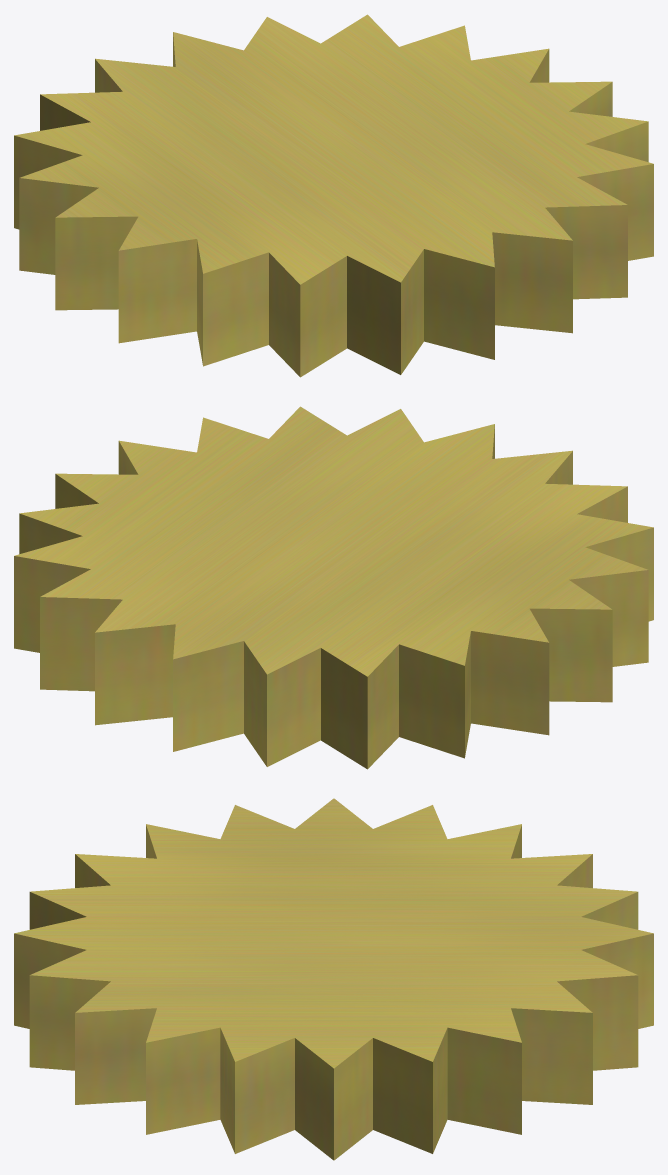
File: ClockStraight020.fbx
The picture shows the model from 3 angles, top to bottom: view 1: azimuth 30°, elevation 25°; view 2: azimuth 150°, elevation 25°; view 3: azimuth 270°, elevation 25°; orthographic projection.
Visible parts, largest first — view 1: ClockStraight020; view 2: ClockStraight020; view 3: ClockStraight020.
Part boxes in pixels (x1,y1,x2,y2): ClockStraight020: (14, 14, 653, 377); ClockStraight020: (14, 406, 653, 769); ClockStraight020: (14, 798, 653, 1160).
Size of the model in its own units: 124 by 19.69 by 124.
